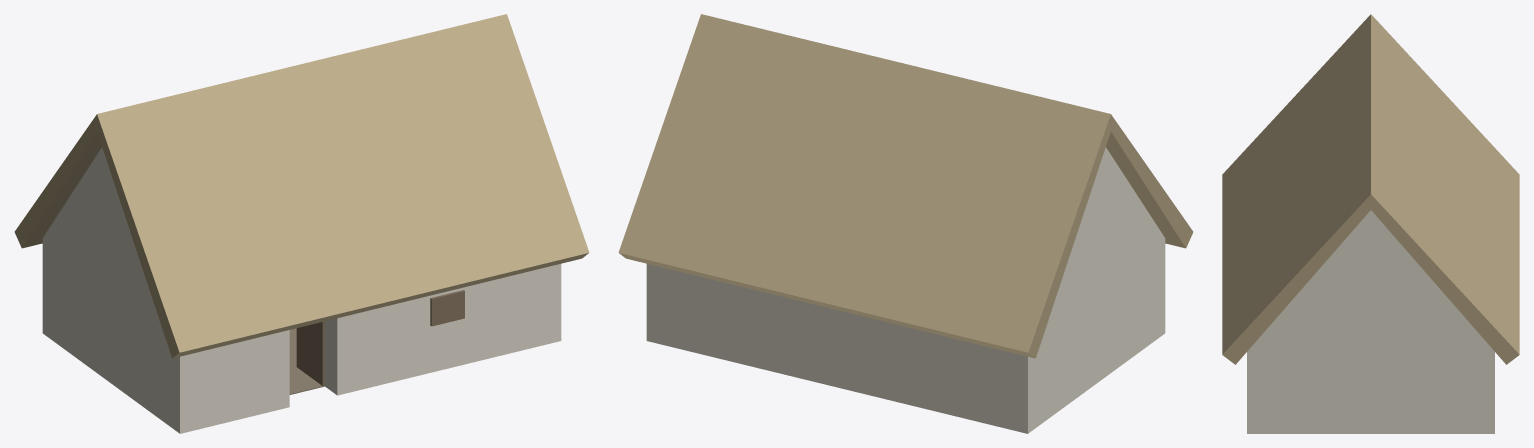
File: cottage-a.glb
The picture shows the model from 3 angles, left to right: view 1: azimuth 30°, elevation 25°; view 2: azimuth 150°, elevation 25°; view 3: azimuth 270°, elevation 25°; orthographic projection. The views are drawn at different scales.
Parts seen in each view (by area): view 1: cottage-a-thatch, cottage-a-wall, cottage-a-wood, cottage-a-floor; view 2: cottage-a-thatch, cottage-a-wall; view 3: cottage-a-thatch, cottage-a-wall.
Part boxes in pixels (box(x1,y1,x2,y2)): cottage-a-thatch: box(14, 14, 589, 358); cottage-a-wall: box(42, 147, 561, 433); cottage-a-wood: box(296, 290, 464, 385); cottage-a-floor: box(289, 328, 324, 394); cottage-a-thatch: box(618, 14, 1193, 358); cottage-a-wall: box(646, 147, 1165, 433); cottage-a-thatch: box(1222, 14, 1519, 364); cottage-a-wall: box(1247, 210, 1494, 433).
Bounding box in the file's own units: 8.6 × 5.48 × 6.
